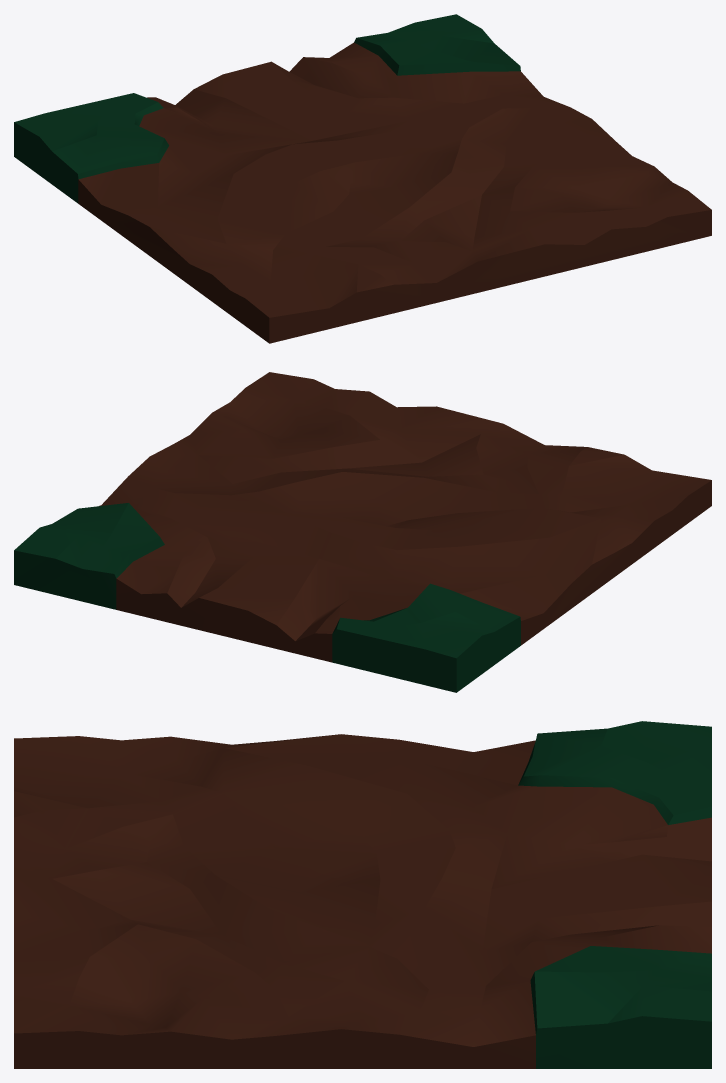
The model's file is Ground_Road_Entrance_U.fbx.
3 renders of one model, top to bottom at view 1: azimuth 30°, elevation 25°; view 2: azimuth 150°, elevation 25°; view 3: azimuth 270°, elevation 25°, orthographic. The views are drawn at different scales.
Parts seen in each view (by area): view 1: Ground_Road_Entrance_U; view 2: Ground_Road_Entrance_U; view 3: Ground_Road_Entrance_U.
Boxes of the visible parts, bbox=[...] form: Ground_Road_Entrance_U: bbox=[14, 14, 711, 343]; Ground_Road_Entrance_U: bbox=[14, 372, 711, 692]; Ground_Road_Entrance_U: bbox=[14, 721, 711, 1068].
Bounding box in the file's own units: 147 × 14.83 × 147.
